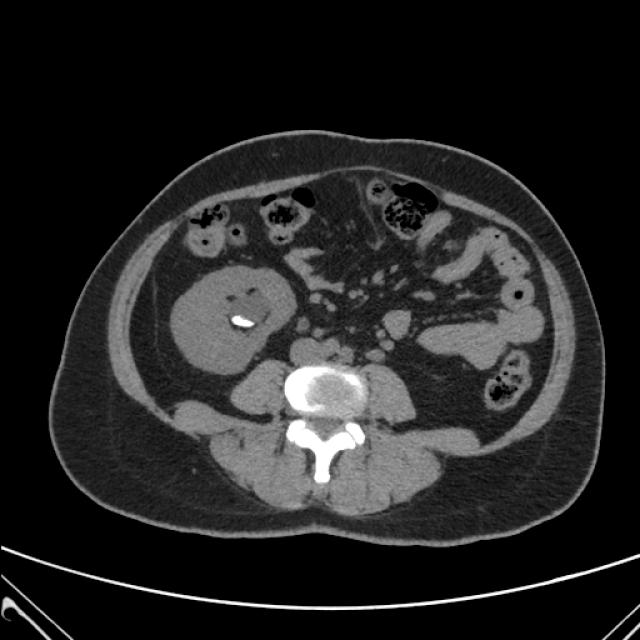kidney: (170, 264, 300, 374)
stone: (230, 315, 255, 329)
